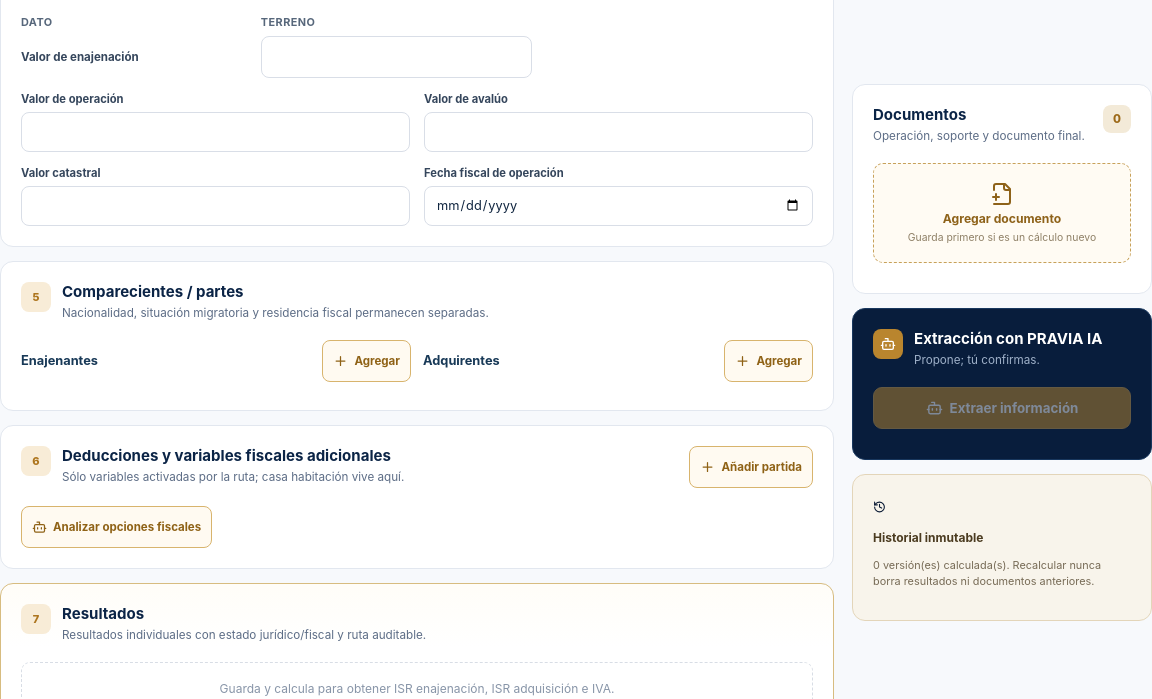
it: ISR · save/requery response real sin relaciones › nacionalidad desconocida no aparenta ser México ni se inventa al añadir una parte
(page scrolled)
Click the button "Agregar" in the row of "Enajenantes": (367, 361) [322,340,411,382]
(page scrolled)
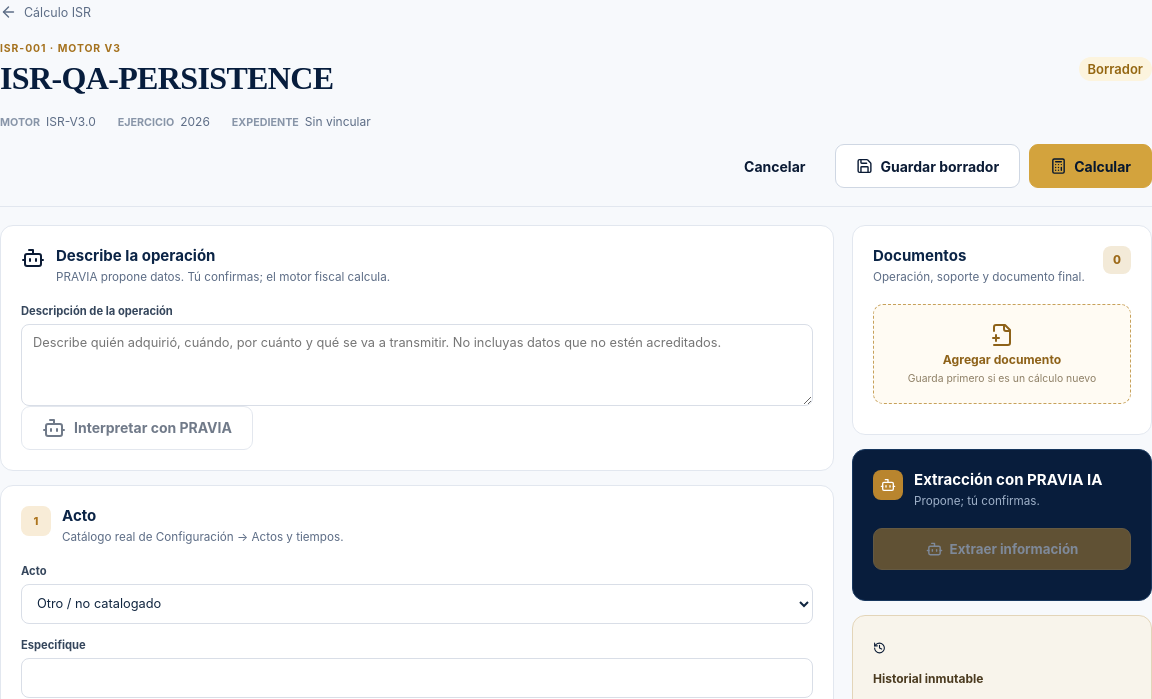
Click the button "Guardar borrador": (928, 166) [836,144,1020,188]
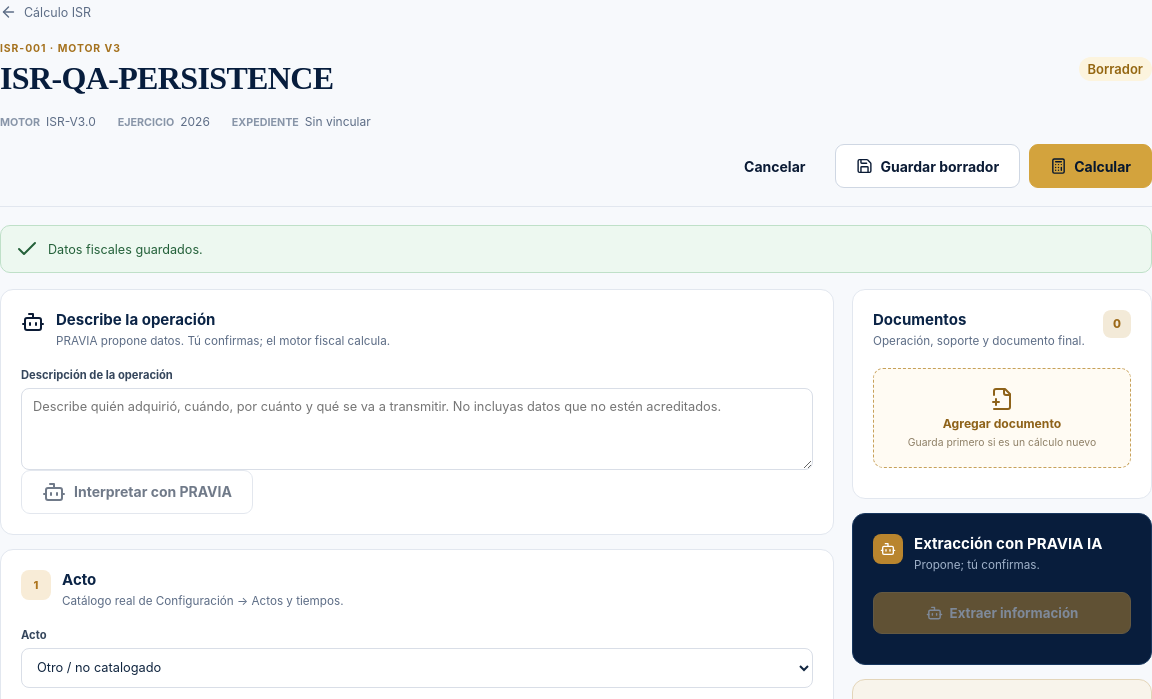
Expected: the text "Datos fiscales guardados." is shown, [0,225,1151,273]
